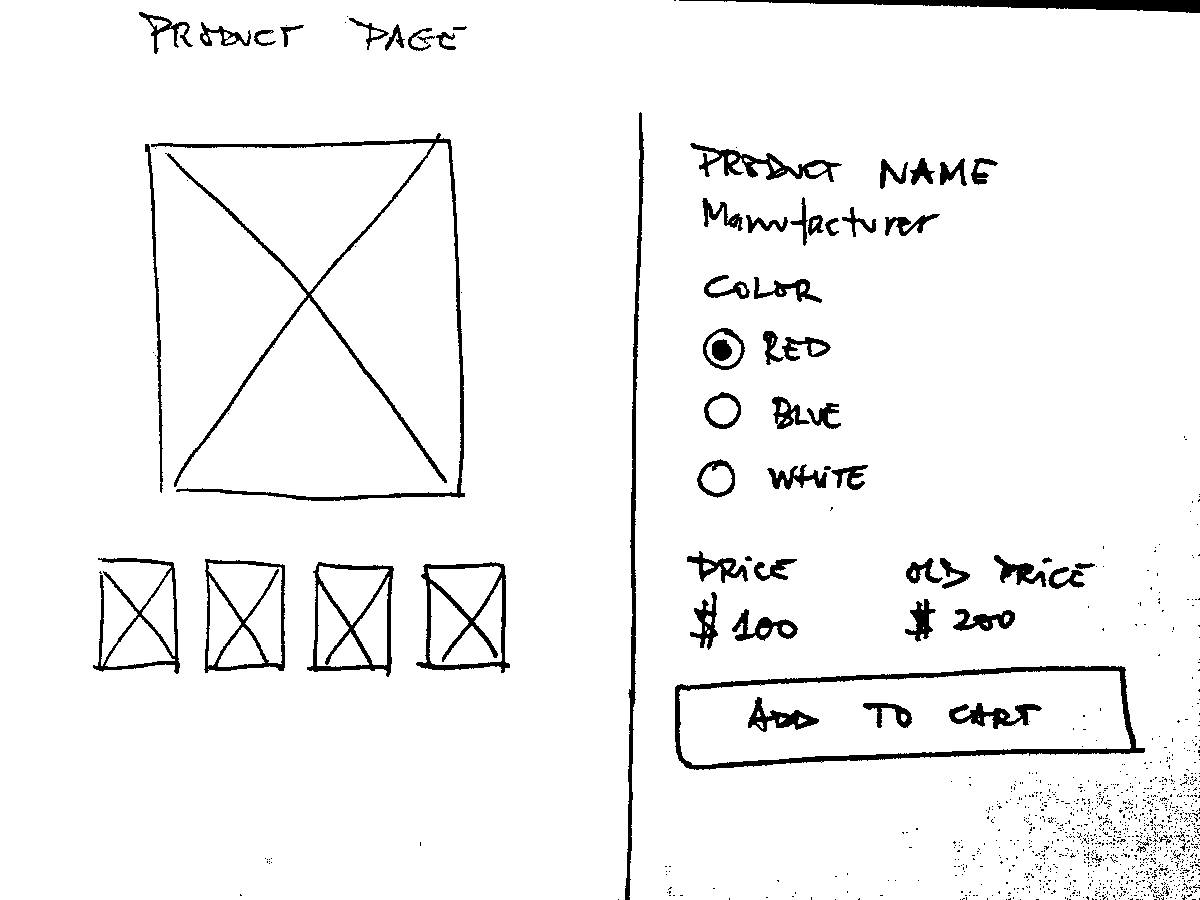Button: (669, 662, 1148, 772)
Image: (142, 135, 469, 503), (95, 550, 183, 678), (199, 557, 288, 679), (419, 560, 511, 676), (308, 557, 396, 676)
Radio Button: (695, 322, 842, 376), (704, 384, 842, 438), (698, 456, 874, 498)
